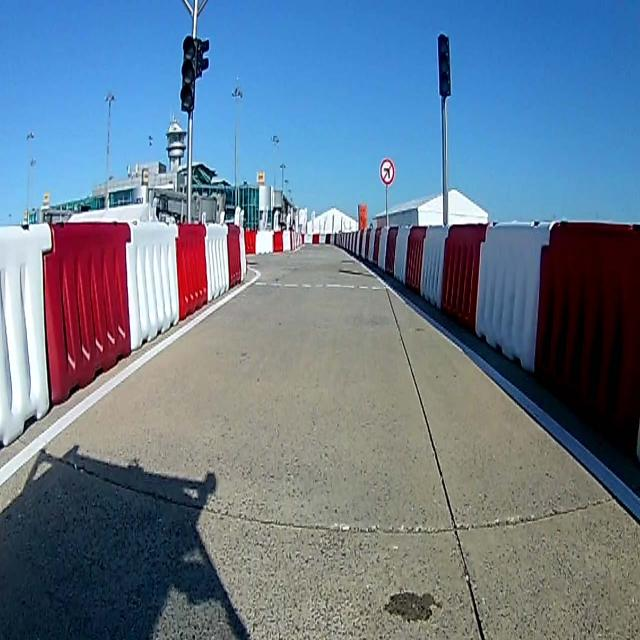soladonulmez: (379, 158, 395, 185)
